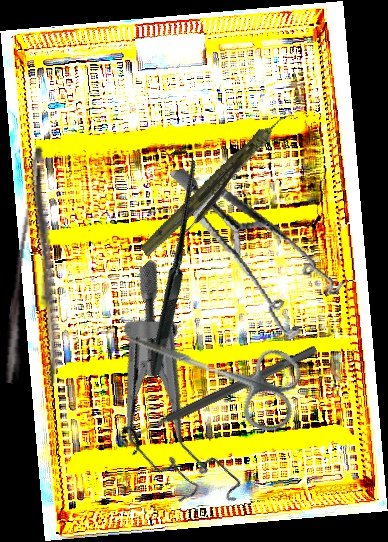Dressing Forceps: (1, 145, 84, 389)
Fixation Ring: (118, 335, 324, 457)
Handpiece: (118, 109, 320, 259)
Hook Surgical: (51, 145, 285, 378)
Iris Scissors: (109, 301, 310, 437)
Speculum: (42, 256, 311, 532), (169, 140, 354, 357)
Tissue Forceps: (174, 141, 263, 235)
